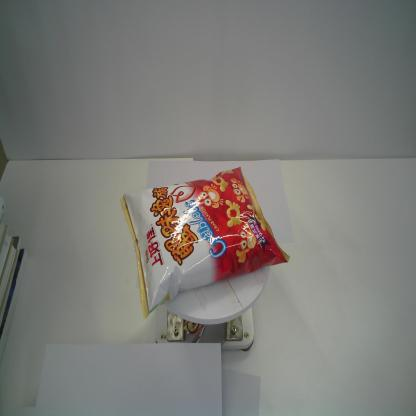Puffed Food: (120, 166, 292, 320)
